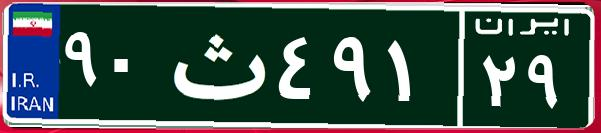0: (110, 28, 158, 105)
1: (385, 28, 445, 110)
2: (475, 38, 525, 113)
4: (273, 28, 330, 110)
9: (330, 28, 385, 110), (57, 26, 110, 107), (525, 38, 570, 115)
ث: (158, 15, 273, 115)
